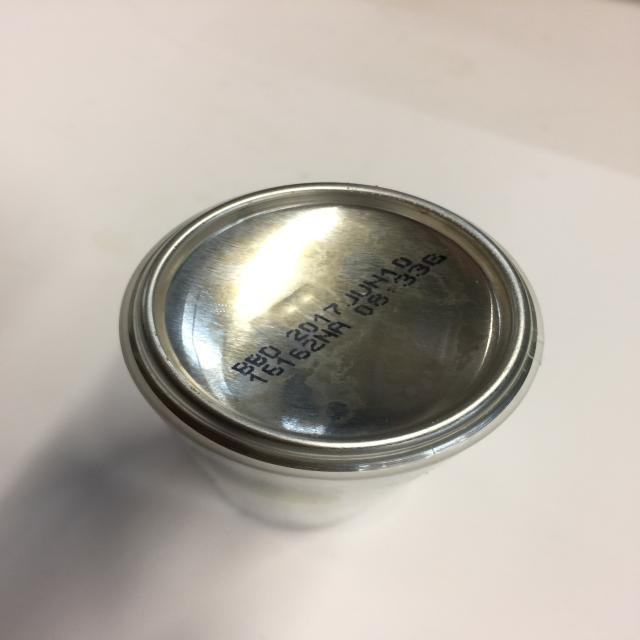metal: (123, 180, 546, 534)
